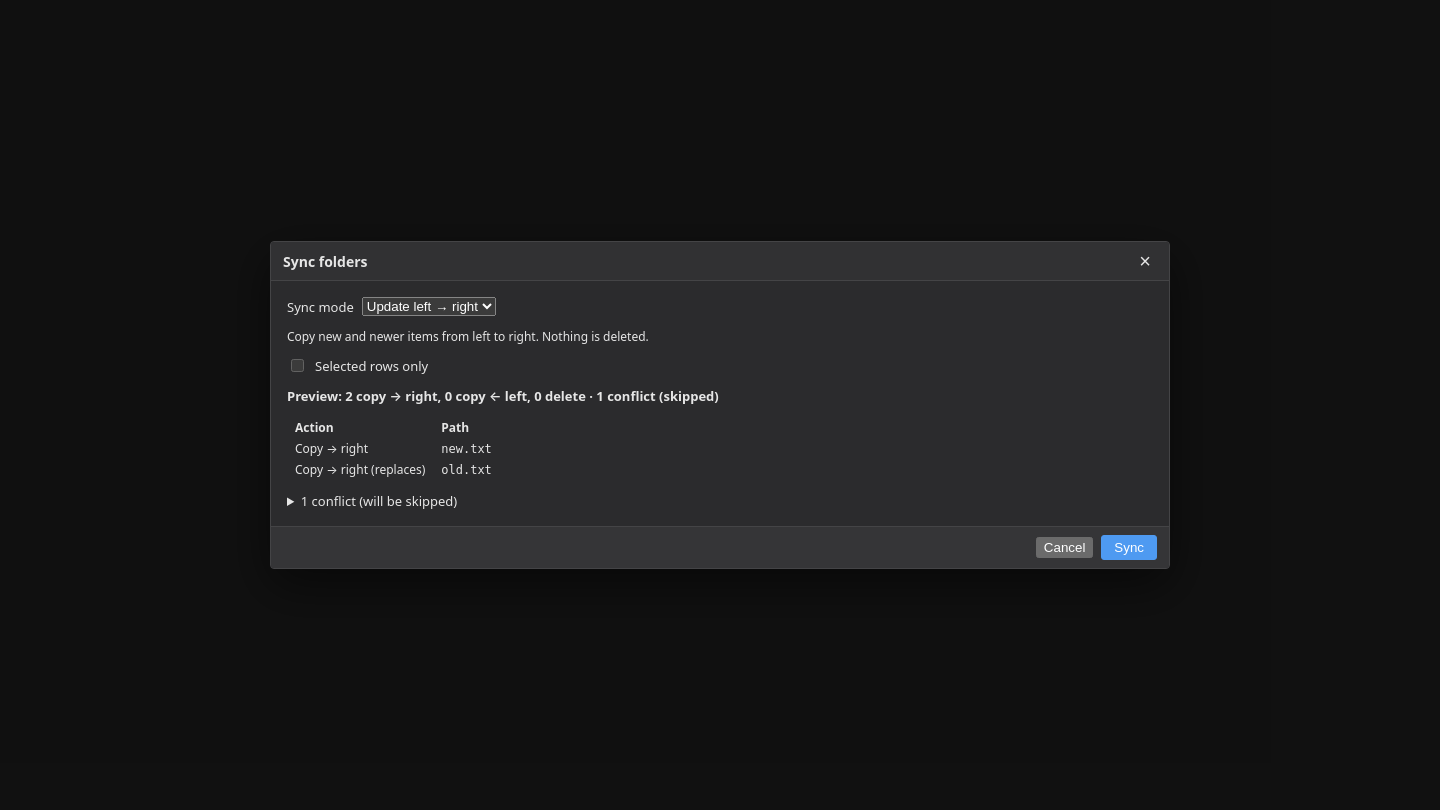
<FolderSyncDialog /> › lists per-item failures in the result
Click the button "Sync" at (1129, 548), box [1101, 535, 1157, 560]
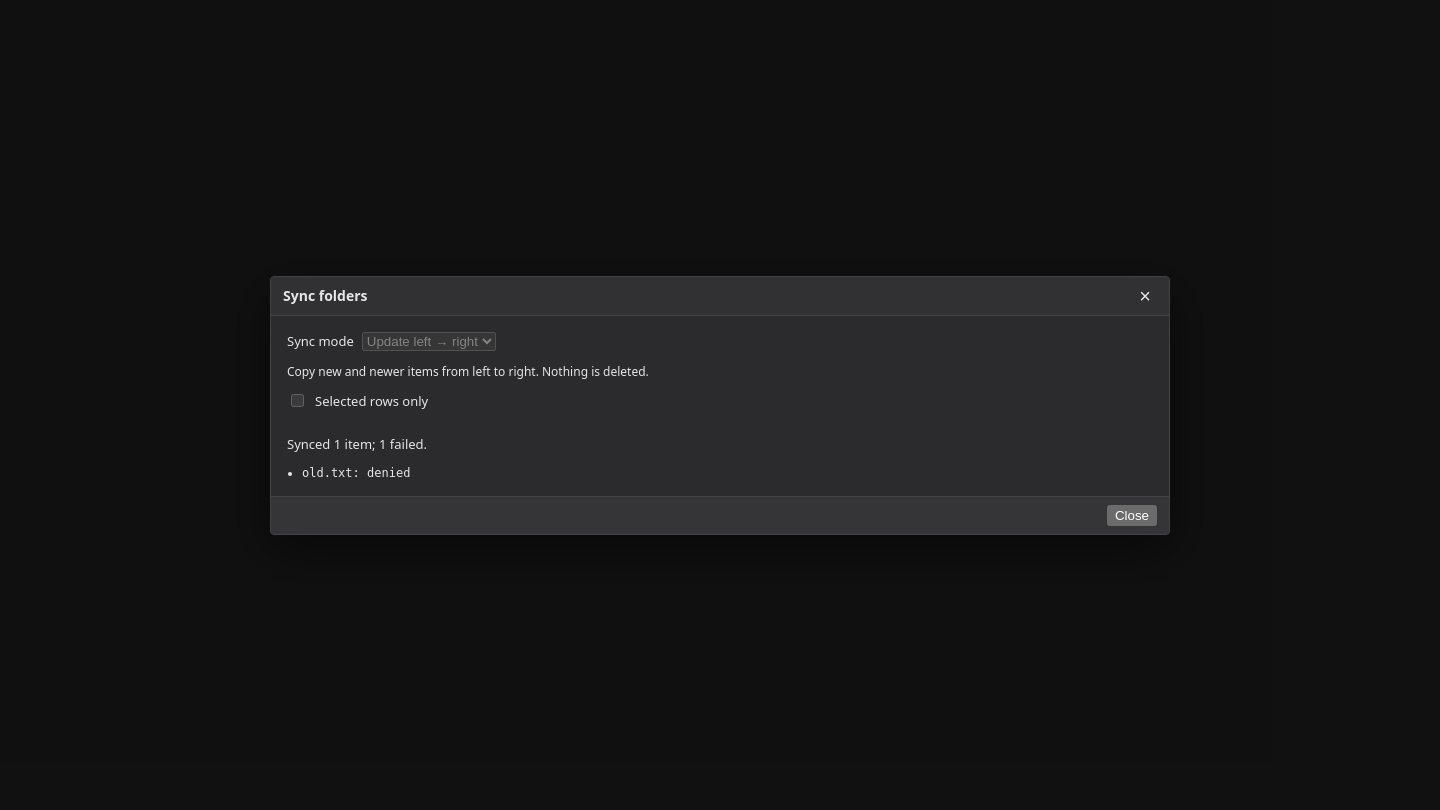
Check: the text "Synced 1 item; 1 failed." is shown, box [287, 434, 427, 452]
Check: the list item "old.txt: denied" is shown, box [302, 466, 410, 480]
